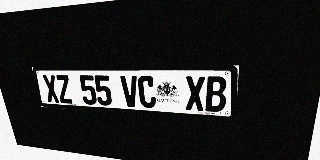5: (94, 75, 113, 106), (79, 75, 98, 105)
B: (205, 76, 227, 112)
C: (137, 76, 156, 108)
V: (120, 75, 139, 107)
X: (185, 76, 205, 111), (42, 75, 60, 103)
Z: (55, 75, 73, 104)
